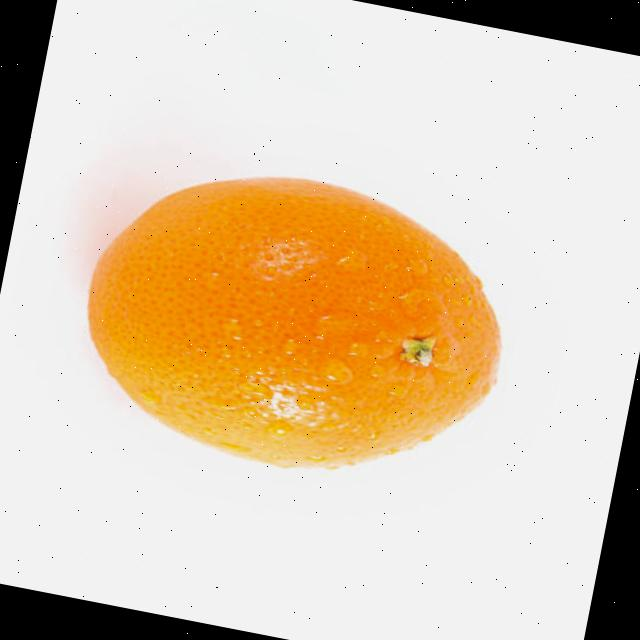Ripe: (59, 138, 530, 511)
